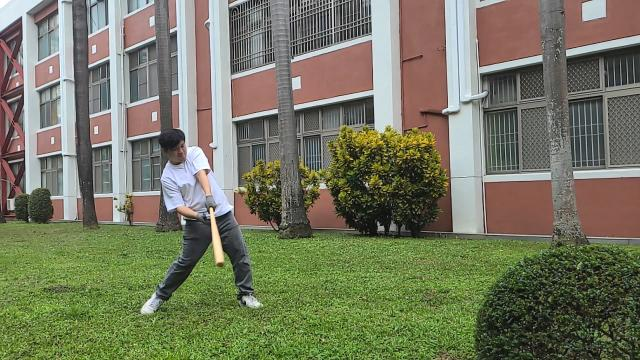baseball bat: (208, 204, 226, 270)
